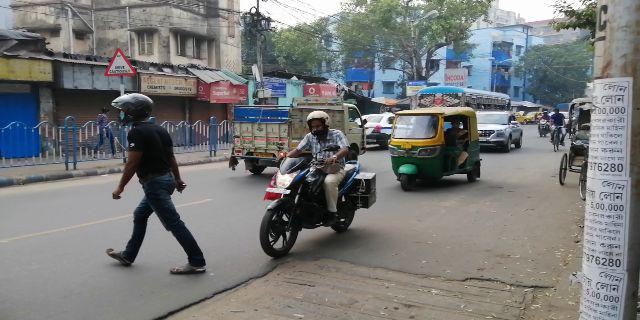Autorickshaw: (393, 107, 483, 200)
Car: (474, 110, 527, 154)
Minitruck: (228, 94, 368, 171)
Motorbike: (258, 108, 374, 255)
